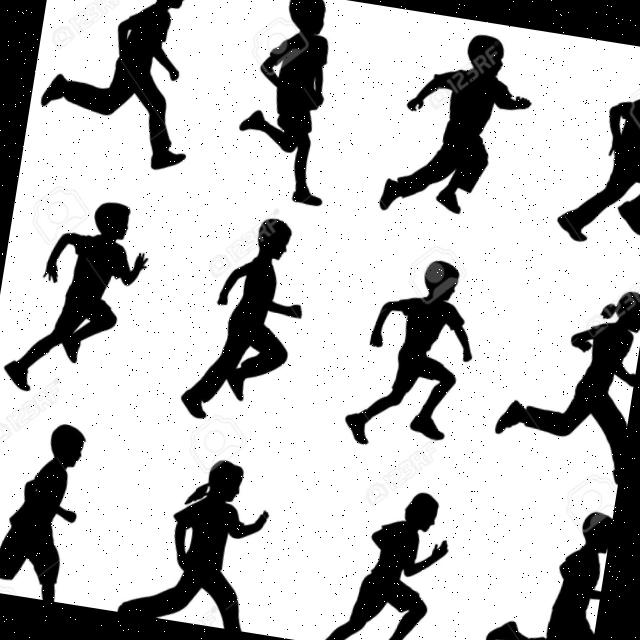Person: (0, 189, 156, 408), (378, 22, 540, 230), (487, 274, 640, 484), (118, 448, 287, 635), (33, 0, 213, 175), (178, 207, 316, 432), (340, 250, 486, 458), (228, 0, 354, 207), (304, 473, 455, 640), (0, 410, 104, 605), (479, 494, 613, 640), (555, 44, 640, 252)
